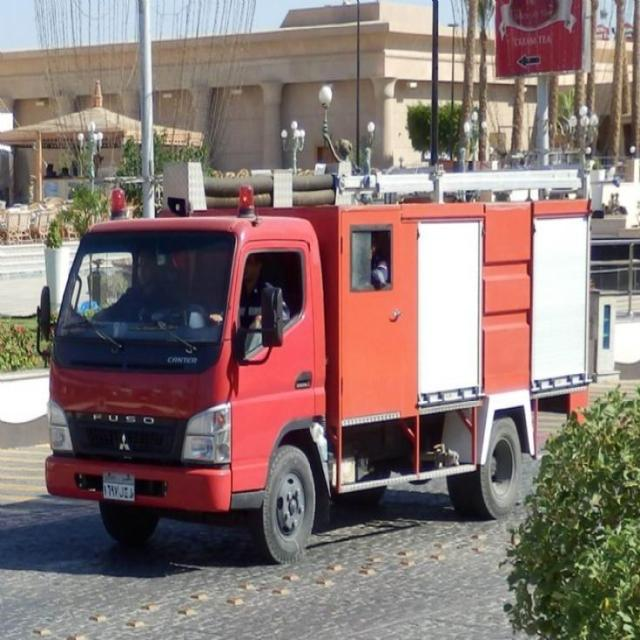Fire-truck: (37, 175, 594, 565)
person: (91, 246, 182, 324)
